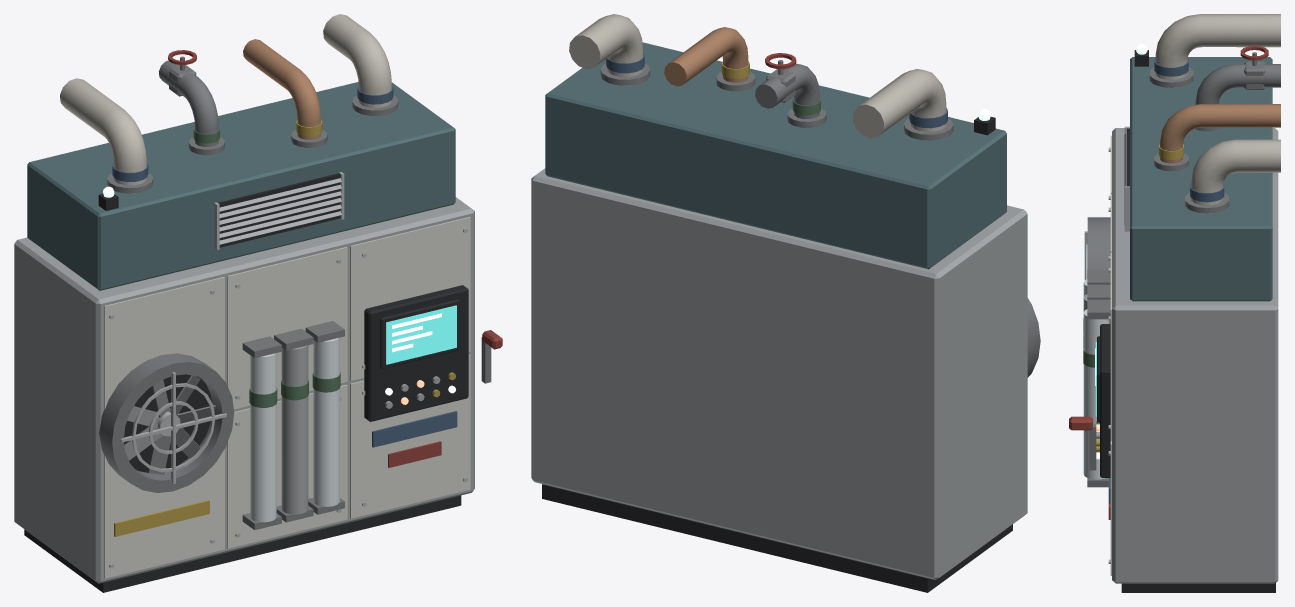
Rendered from astro_life_support_unit.fbx.
3 views of the same model, side by side, from view 1: azimuth 30°, elevation 25°; view 2: azimuth 150°, elevation 25°; view 3: azimuth 270°, elevation 25° (orthographic). The views are drawn at different scales.
Visible parts, largest first — view 1: LifeSupportUnit_Body; view 2: LifeSupportUnit_Body; view 3: LifeSupportUnit_Body.
Part boxes in pixels (box(x1,y1,x2,y2)): LifeSupportUnit_Body: box(14, 14, 502, 592); LifeSupportUnit_Body: box(531, 14, 1040, 592); LifeSupportUnit_Body: box(1069, 14, 1280, 592).
Size of the model in its own units: 365 by 409 by 178.
